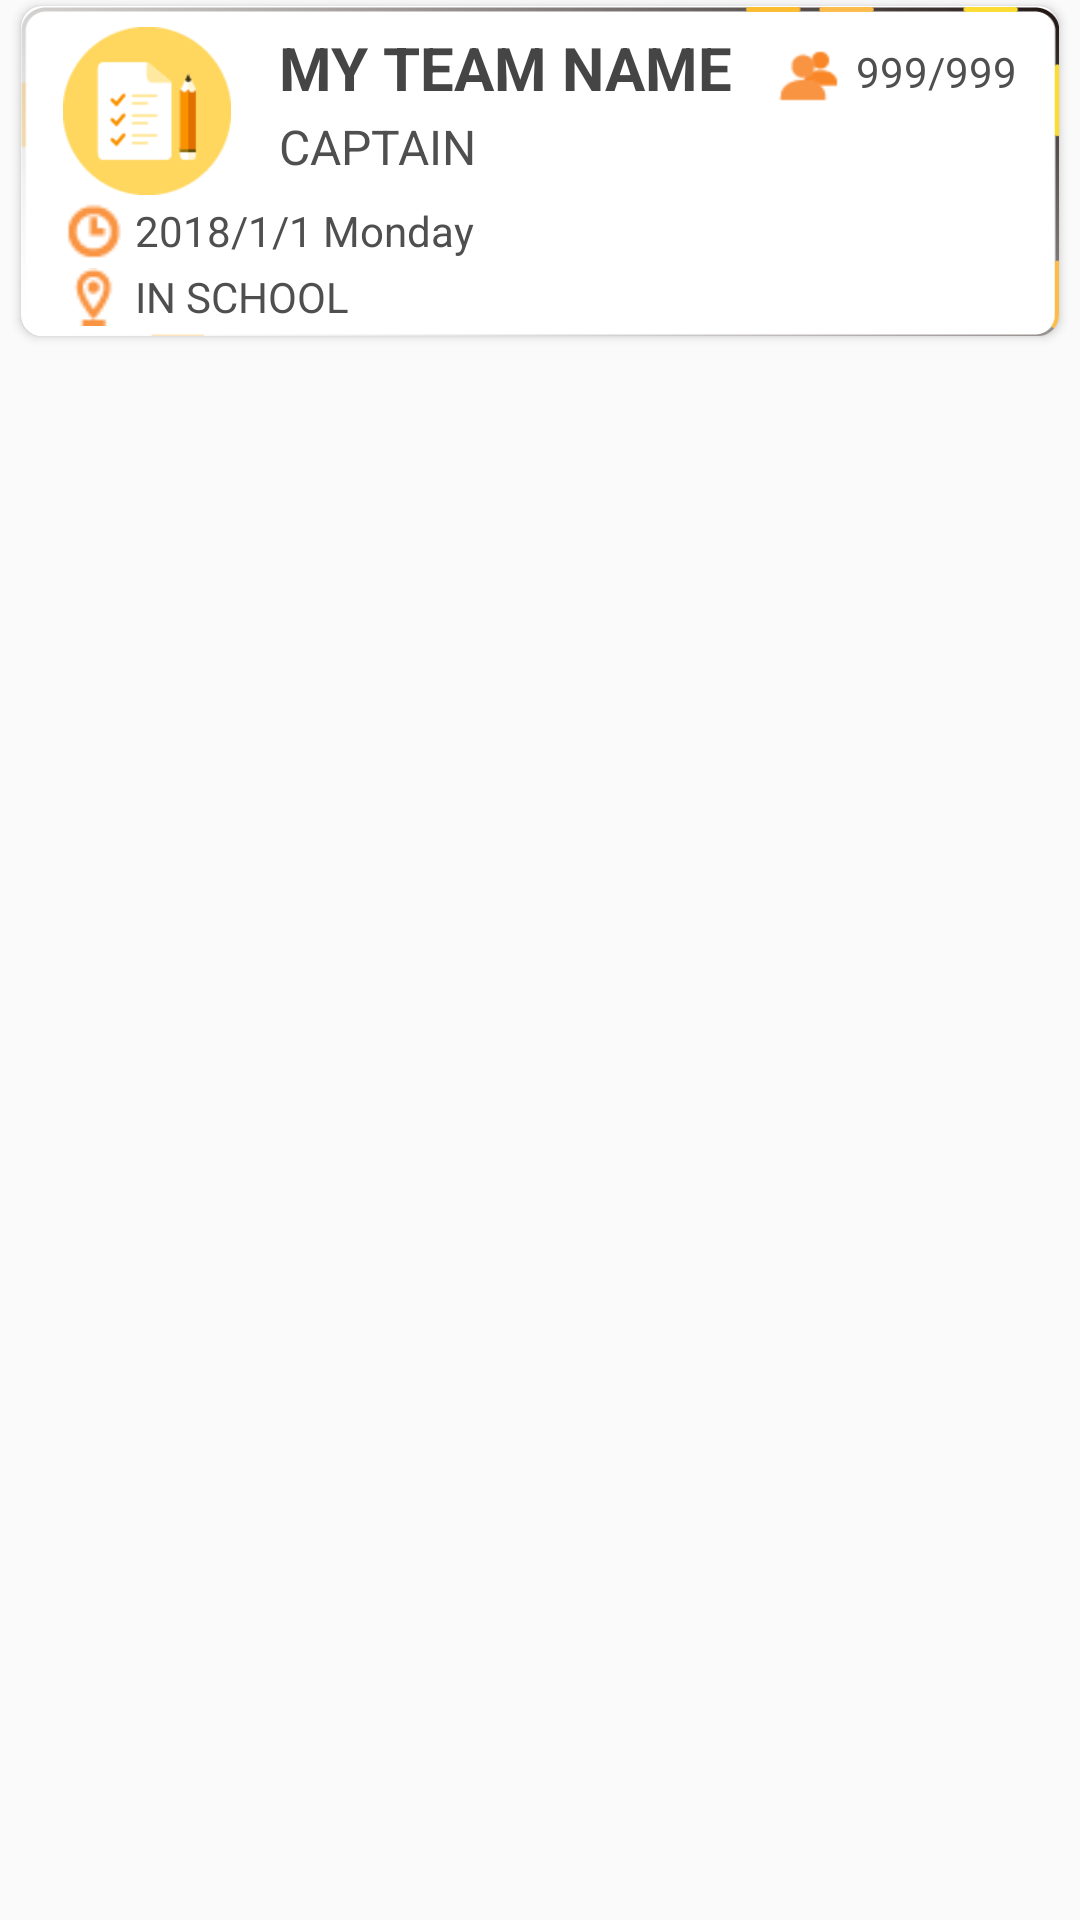

Icon bounding boxes for this 1080px×1920px phone screenshot, format (x1, y1, x2, y2):
location: (75, 268, 112, 326)
study: (63, 27, 231, 195)
time: (68, 205, 121, 258)
